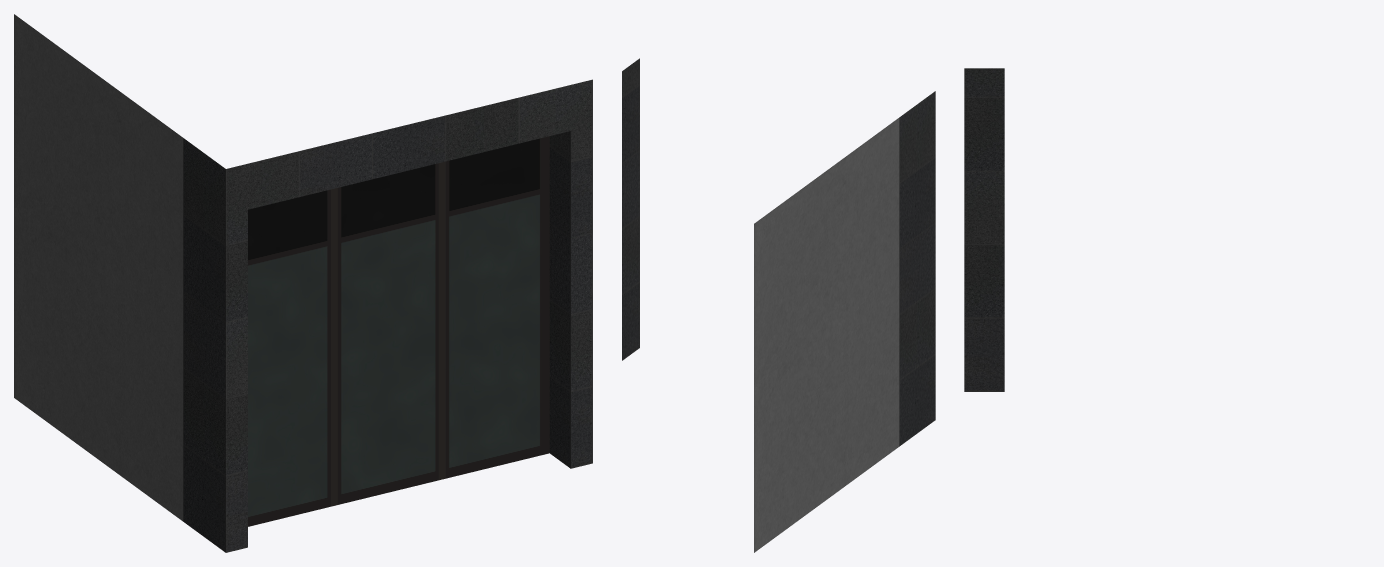
The model's file is left_edge.gltf.
3 renders of one model, left to right at view 1: azimuth 30°, elevation 25°; view 2: azimuth 150°, elevation 25°; view 3: azimuth 270°, elevation 25°, orthographic. The views are drawn at different scales.
Parts seen in each view (by area): view 1: left_edge; view 2: left_edge; view 3: left_edge.
Boxes of the visible parts, left/top/right/bottom form: left_edge: left=14, top=14, right=592, bottom=552; left_edge: left=622, top=58, right=935, bottom=552; left_edge: left=964, top=68, right=1004, bottom=391.
Bounding box in the file's own units: 5 × 5 × 5.
Materials: 3 (3 with a texture image).
